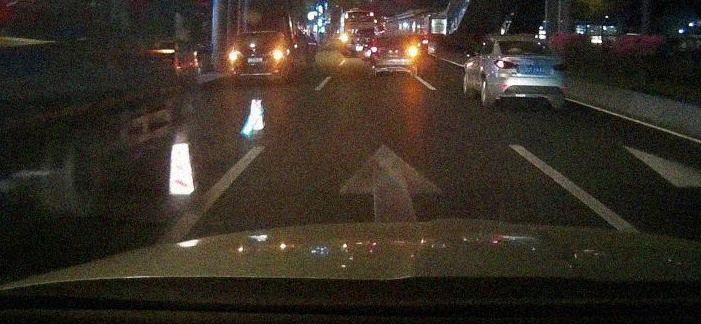L_light: (493, 59, 517, 69), (229, 51, 243, 60), (370, 47, 383, 54)
R_light: (551, 62, 567, 72), (269, 50, 284, 59), (406, 47, 419, 54)
T_light: (249, 43, 260, 48), (522, 39, 533, 43), (391, 36, 402, 39)
night-brake: (229, 30, 285, 82)
night-no: (493, 36, 567, 110)
night-right: (371, 35, 419, 78)
